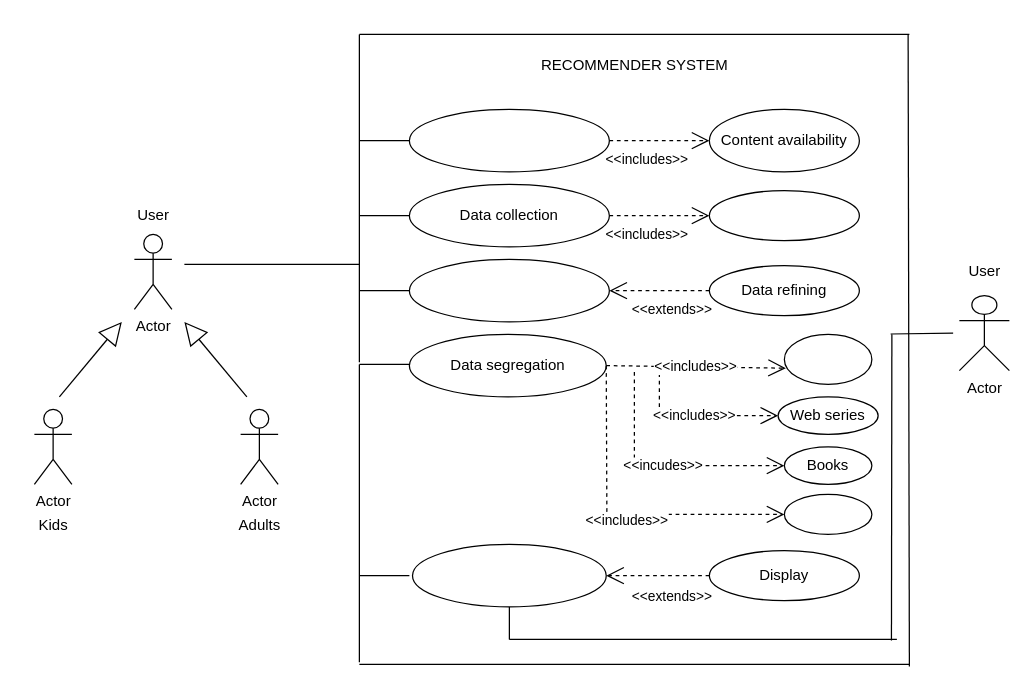
Image size: 1036x691. Some labels were removed from this diagram. Here are the shapes that lost their labels. From the top down, the centre of each, then its label:
At (x=508, y=140): "Content search".
At (x=783, y=215): "Storing information".
At (x=508, y=290): "Genre identification".
At (x=827, y=358): "Movies".
At (x=827, y=513): "Youtube".
At (x=508, y=575): "Content recommendation".
